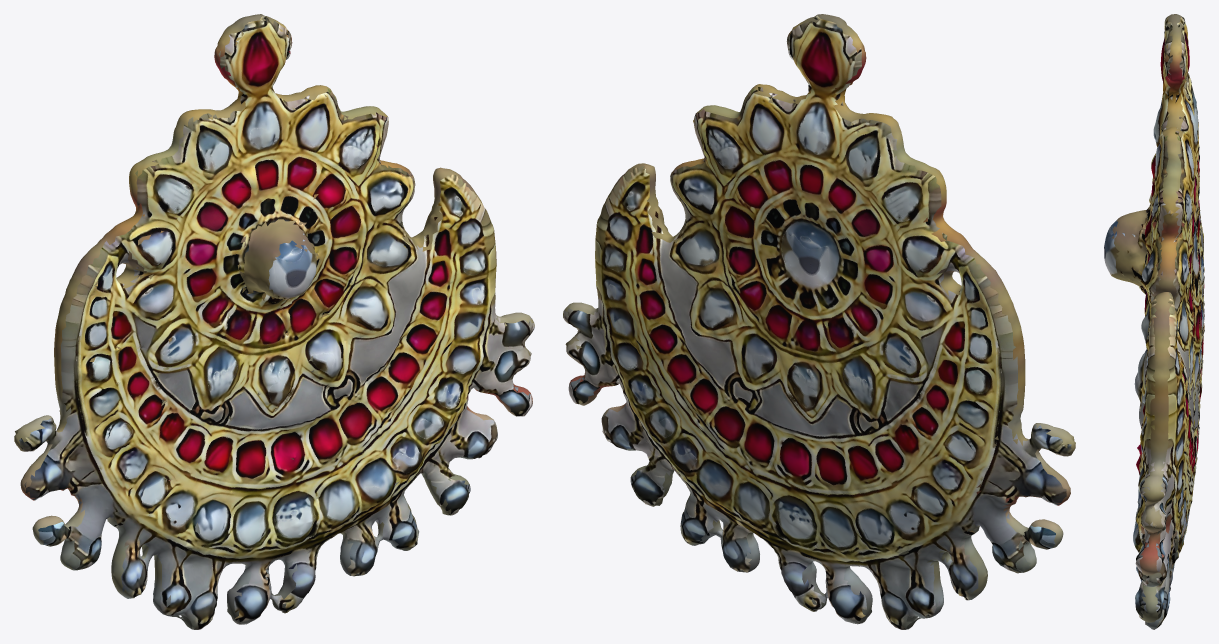
The model's file is kfl-2230.glb.
The picture shows the model from 3 angles, left to right: view 1: azimuth 30°, elevation 25°; view 2: azimuth 150°, elevation 25°; view 3: azimuth 270°, elevation 25°; orthographic projection. The views are drawn at different scales.
Parts seen in each view (by area): view 1: kfl-2230; view 2: kfl-2230; view 3: kfl-2230.
Part boxes in pixels (box(x1,y1,x2,y2)): kfl-2230: box(14, 14, 534, 629); kfl-2230: box(563, 14, 1075, 629); kfl-2230: box(1104, 14, 1204, 629).
Bounding box in the file's own units: 0.8845 × 0.9897 × 0.1567.
Materials: 4 (4 with a texture image).
